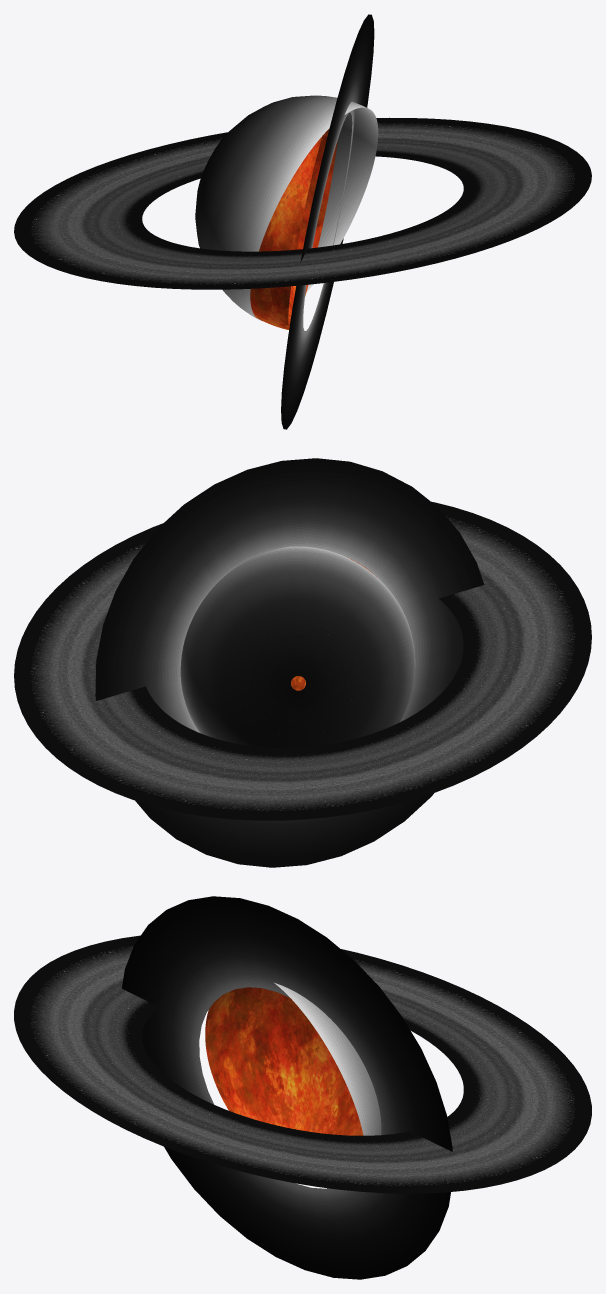
File: env_space_geonosis_01_pre.glb
3 renders of one model, top to bottom at view 1: azimuth 30°, elevation 25°; view 2: azimuth 150°, elevation 25°; view 3: azimuth 270°, elevation 25°, orthographic.
Parts seen in each view (by area): view 1: planet_ring_01, planet_fresnel_mesh, planet_glow_mesh, planet_body_mesh; view 2: planet_ring_01, planet_glow_mesh, planet_fresnel_mesh; view 3: planet_ring_01, planet_glow_mesh, planet_body_mesh, planet_fresnel_mesh.
Part boxes in pixels (box(x1,y1,x2,y2)): planet_ring_01: box(14, 117, 591, 289); planet_fresnel_mesh: box(195, 95, 378, 320); planet_glow_mesh: box(281, 14, 374, 429); planet_body_mesh: box(250, 128, 337, 329); planet_ring_01: box(14, 501, 591, 820); planet_glow_mesh: box(95, 458, 484, 867); planet_fresnel_mesh: box(180, 546, 415, 747); planet_ring_01: box(14, 935, 591, 1193); planet_glow_mesh: box(122, 896, 452, 1279); planet_body_mesh: box(205, 987, 363, 1135); planet_fresnel_mesh: box(274, 983, 395, 1135).
Size of the model in its own units: 352 by 255 by 346.
Materials: 4 (4 with a texture image).
